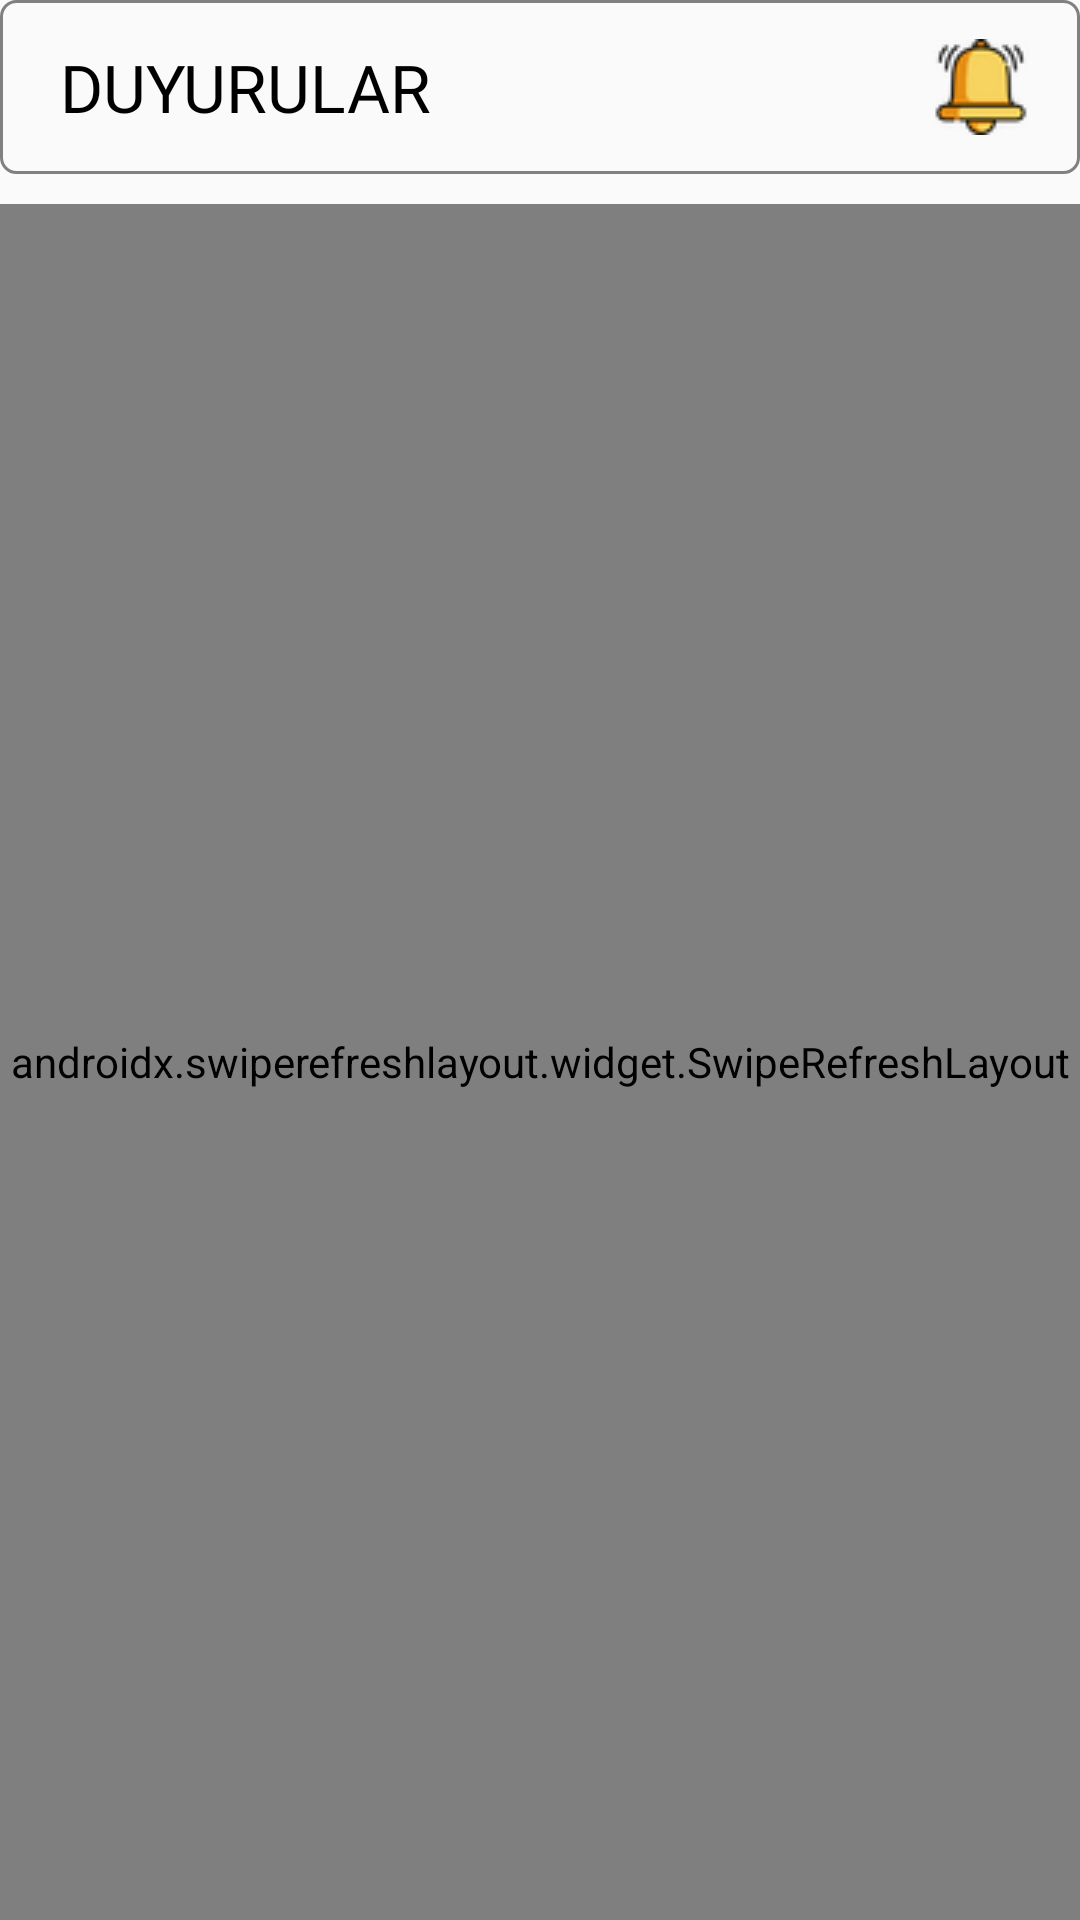

Named icons in this screenshot (1080 x 1920) and their centers, (x=x, y=y):
rsz 1bell: (x=981, y=87)
